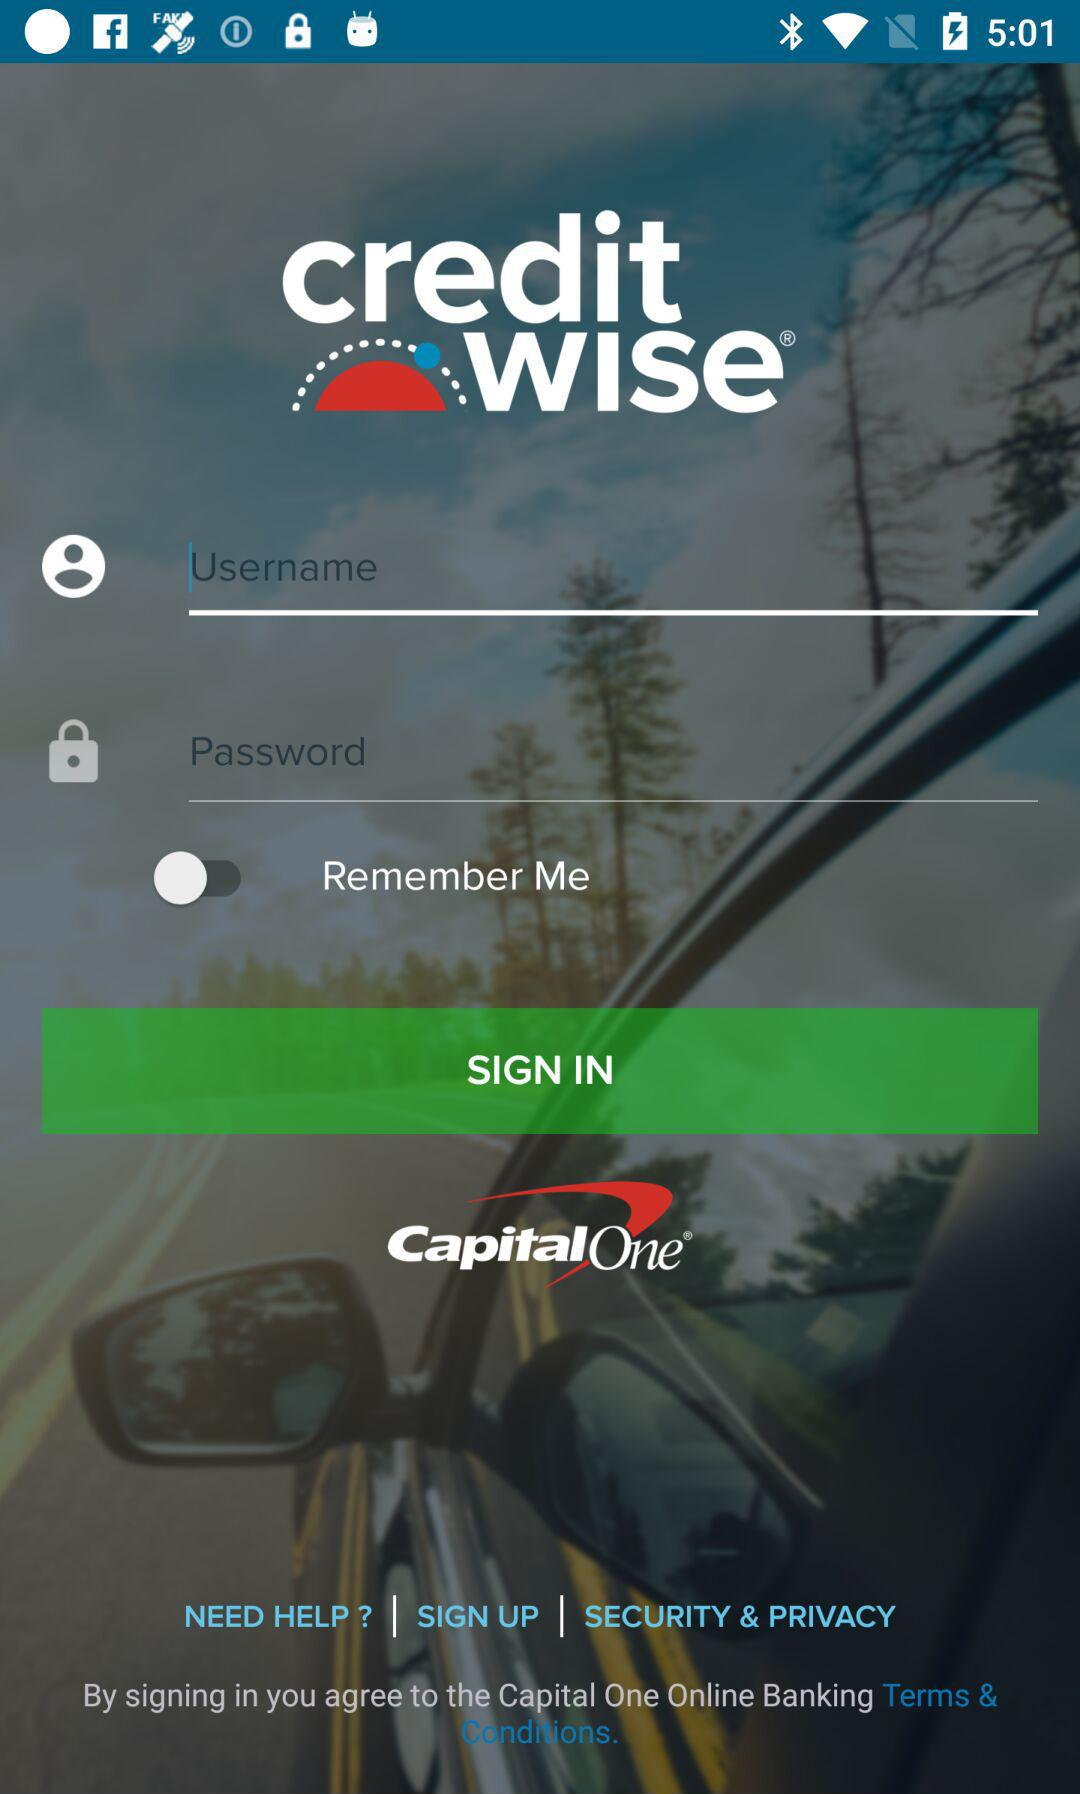BackgroundImage: (1, 64, 1080, 1794)
EditText: (190, 539, 1039, 616), (188, 736, 1039, 803)
Icon: (42, 534, 108, 600), (49, 718, 100, 784)
Image: (282, 209, 798, 416), (388, 1181, 694, 1289)
Switch: (152, 850, 242, 907)
Text: (85, 1681, 998, 1747), (324, 860, 591, 893), (584, 1604, 897, 1630), (192, 552, 377, 583), (193, 736, 366, 768), (184, 1604, 374, 1630), (416, 1603, 541, 1630)
TextButton: (42, 1007, 1039, 1135)
UpperTaskBar: (1, 1, 1080, 64)
